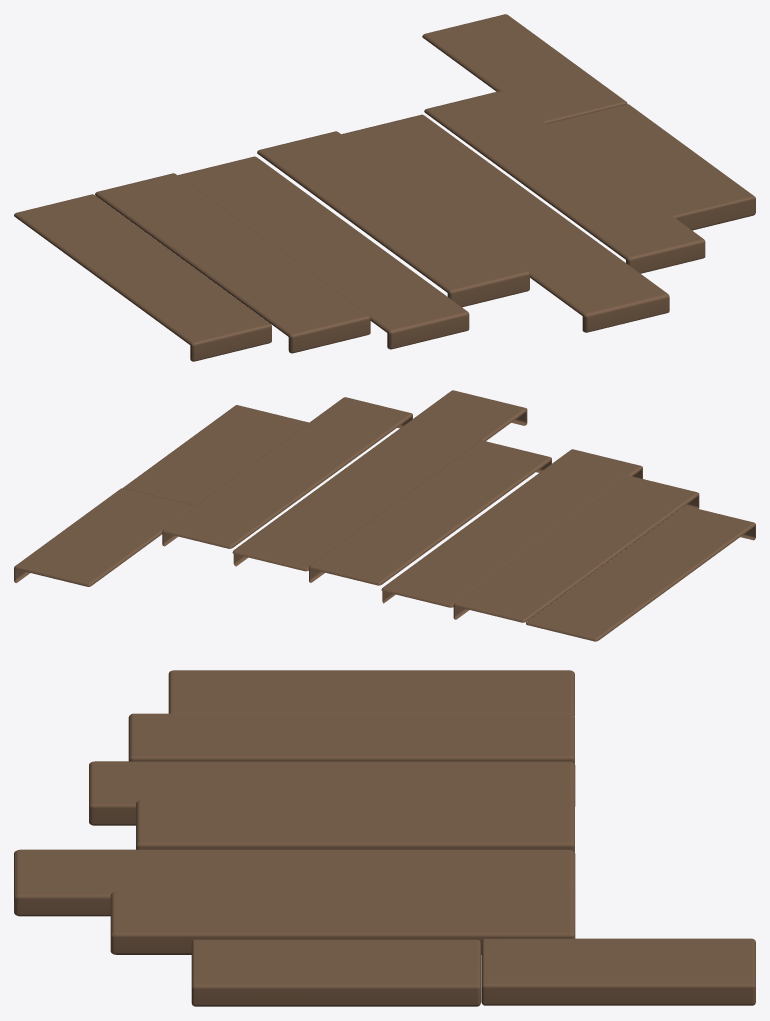
Rendered from WoodPlankFloorFBX.fbx.
The picture shows the model from 3 angles, top to bottom: view 1: azimuth 30°, elevation 25°; view 2: azimuth 150°, elevation 25°; view 3: azimuth 270°, elevation 25°; orthographic projection. The views are drawn at different scales.
Parts seen in each view (by area): view 1: FloorSlab12, FloorSlab14, FloorSlab15, FloorSlab11, FloorSlab13, FloorSlab16, FloorSlab05, FloorSlab10; view 2: FloorSlab12, FloorSlab14, FloorSlab11, FloorSlab15, FloorSlab13, FloorSlab16, FloorSlab10, FloorSlab05; view 3: FloorSlab12, FloorSlab11, FloorSlab13, FloorSlab15, FloorSlab14, FloorSlab05, FloorSlab10, FloorSlab16.
Part boxes in pixels (<box>): FloorSlab12: <box>341,114,669,332</box>; FloorSlab14: <box>178,156,469,349</box>; FloorSlab15: <box>95,173,370,353</box>; FloorSlab11: <box>424,91,705,273</box>; FloorSlab13: <box>257,131,529,307</box>; FloorSlab16: <box>14,194,271,361</box>; FloorSlab05: <box>547,104,755,230</box>; FloorSlab10: <box>422,14,627,123</box>; FloorSlab12: <box>232,390,527,571</box>; FloorSlab14: <box>381,449,642,607</box>; FloorSlab11: <box>162,397,412,548</box>; FloorSlab15: <box>453,475,699,622</box>; FloorSlab13: <box>309,440,551,585</box>; FloorSlab16: <box>526,506,755,641</box>; FloorSlab10: <box>14,488,194,586</box>; FloorSlab05: <box>123,405,308,505</box>; FloorSlab12: <box>14,849,575,916</box>; FloorSlab11: <box>110,892,575,954</box>; FloorSlab13: <box>136,800,574,852</box>; FloorSlab15: <box>128,713,574,763</box>; FloorSlab14: <box>89,761,575,825</box>; FloorSlab05: <box>191,939,480,1006</box>; FloorSlab10: <box>481,938,755,1005</box>; FloorSlab16: <box>168,670,574,715</box>.
Bounding box in the file's own units: 6.84 × 0.2847 × 6.78.
